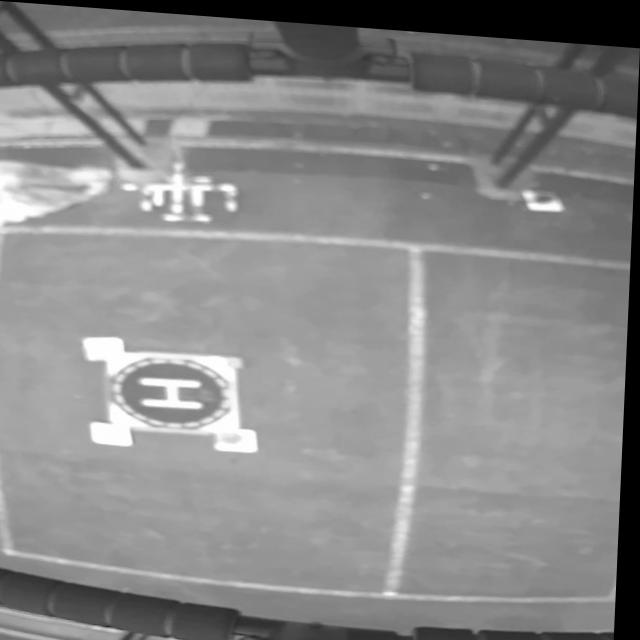Helipad: (141, 374, 206, 405)
